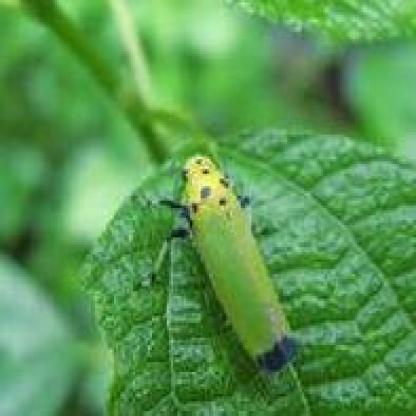Green-Leafhopper: (140, 152, 302, 379)
